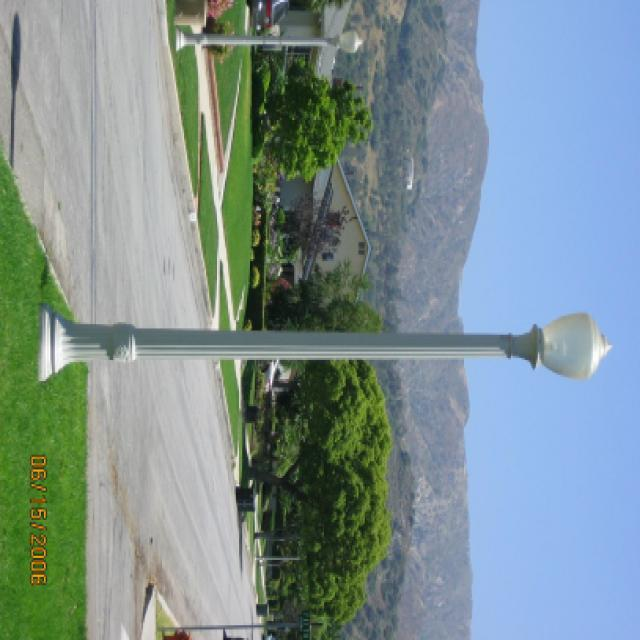Electric pole: (41, 308, 613, 381)
